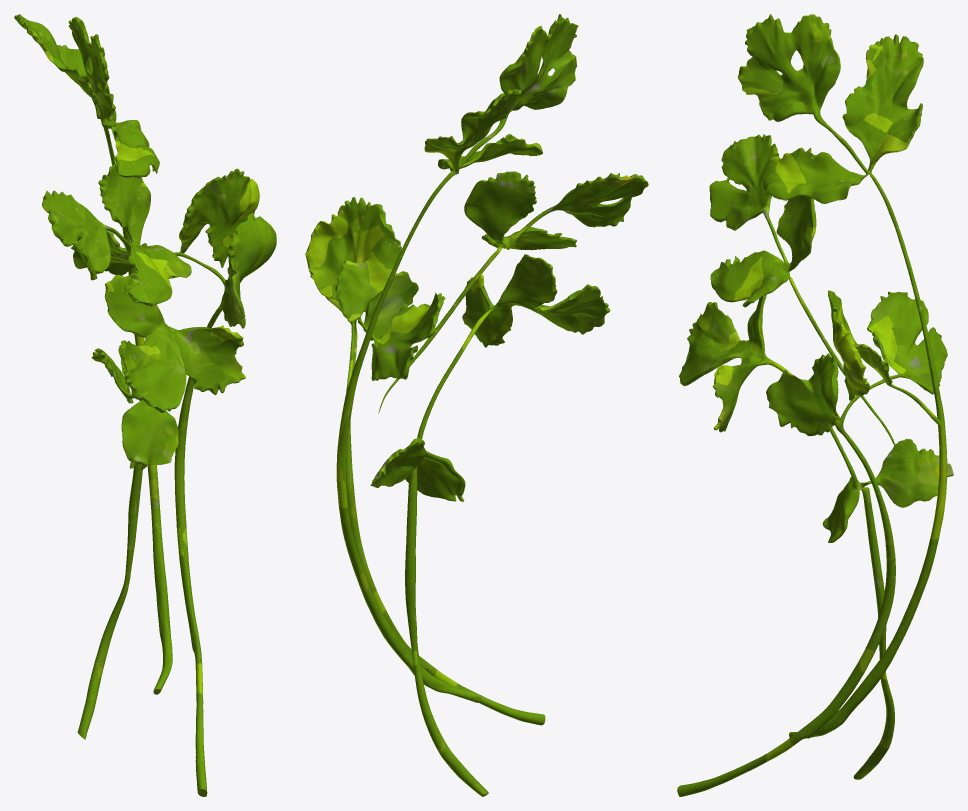
The model's file is coriander.glb.
3 views of the same model, side by side, from view 1: azimuth 30°, elevation 25°; view 2: azimuth 150°, elevation 25°; view 3: azimuth 270°, elevation 25° (orthographic).
Visible parts, largest first — view 1: tripo_node_f13d33e6-6ede-4f50-802d-4ce10024a796; view 2: tripo_node_f13d33e6-6ede-4f50-802d-4ce10024a796; view 3: tripo_node_f13d33e6-6ede-4f50-802d-4ce10024a796.
Boxes of the visible parts, x1,y1,x2,y2 form: tripo_node_f13d33e6-6ede-4f50-802d-4ce10024a796: (14, 14, 276, 796); tripo_node_f13d33e6-6ede-4f50-802d-4ce10024a796: (305, 14, 648, 796); tripo_node_f13d33e6-6ede-4f50-802d-4ce10024a796: (677, 14, 953, 796).
Size of the model in its own units: 0.3878 by 1 by 0.3335.
Materials: 1 (1 with a texture image).
